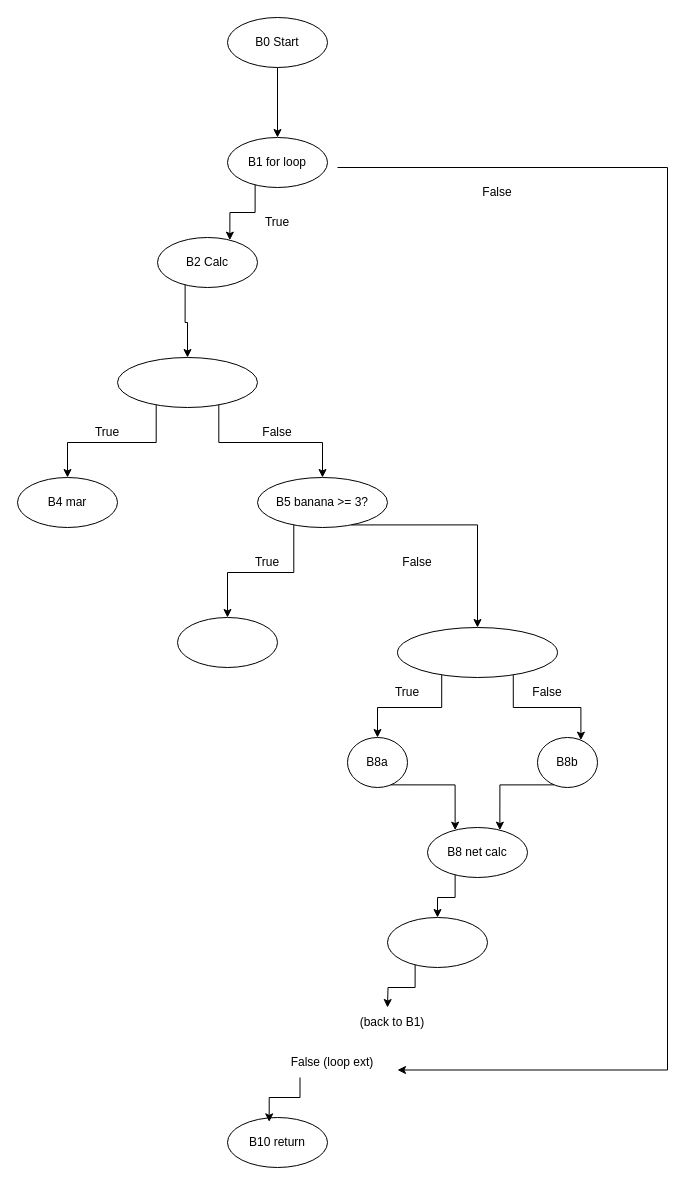
This 693x1185 diagram has some shape labels left out. The centre of each missing label's shape, as x and y in pixels:
B3 product == "mar": [187,382]
B6: [227,642]
B7 portocala combo?: [477,652]
B9 append: [437,942]
